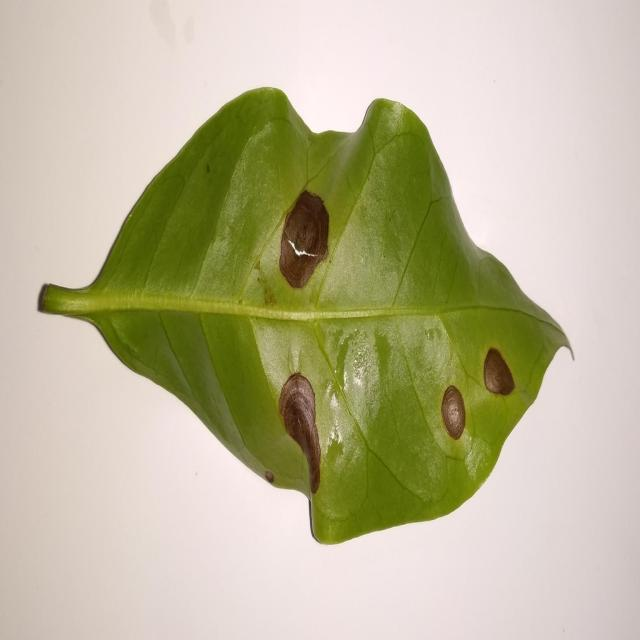phoma: (279, 373, 321, 494), (279, 189, 329, 288), (440, 384, 466, 458), (484, 347, 515, 396)
